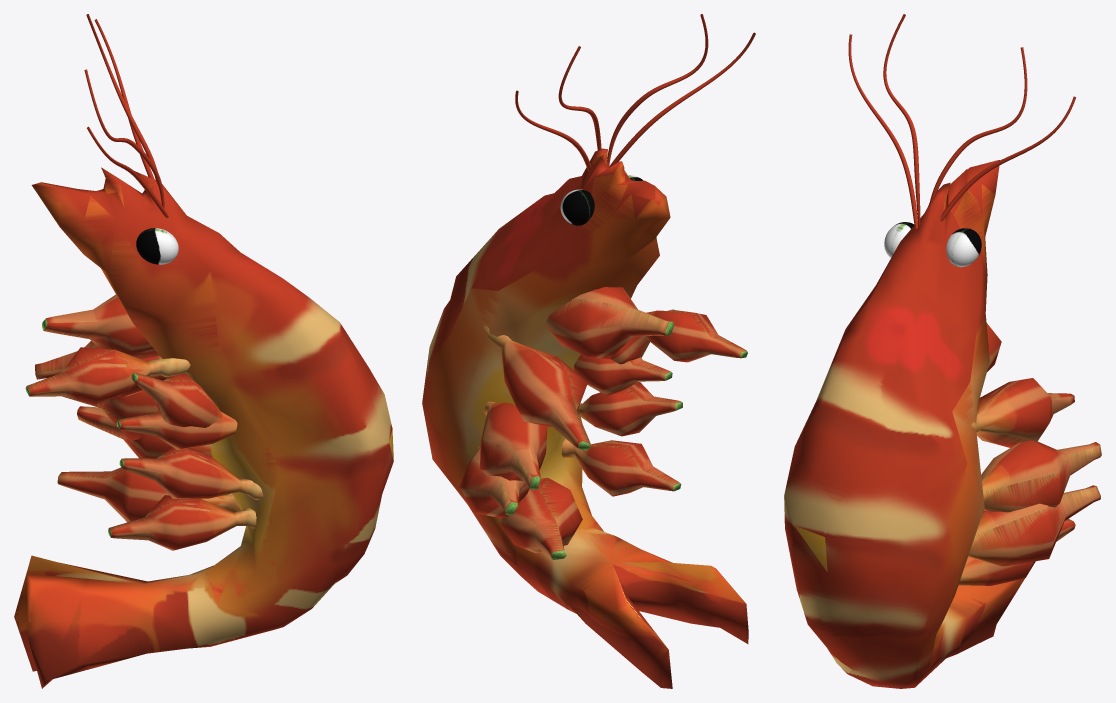
Rendered from shrimp.glb.
The picture shows the model from 3 angles, left to right: view 1: azimuth 30°, elevation 25°; view 2: azimuth 150°, elevation 25°; view 3: azimuth 270°, elevation 25°; orthographic projection. The views are drawn at different scales.
Parts seen in each view (by area): view 1: body, arm6, arm10, arm9, arm5, arm1, arm8, arm7, arm4, arm3, eye2, arm2 (+2 smaller); view 2: body, arm2, arm1, arm3, arm5, arm10, arm9, arm6, arm4, arm7, eye1, whisker2 (+4 smaller); view 3: body, arm3, arm4, arm2, arm5, eye1, whisker4, whisker2, whisker3, whisker1, eye2.
Part boxes in pixels (bbox=[...]): body: bbox=[14, 167, 393, 688]; arm6: bbox=[25, 347, 190, 404]; arm10: bbox=[108, 495, 256, 550]; arm9: bbox=[119, 447, 263, 499]; arm5: bbox=[57, 467, 241, 522]; arm1: bbox=[42, 294, 159, 359]; arm8: bbox=[131, 372, 222, 427]; arm7: bbox=[116, 409, 237, 449]; arm4: bbox=[77, 406, 212, 458]; arm3: bbox=[62, 390, 157, 440]; eye2: bbox=[136, 228, 178, 264]; arm2: bbox=[35, 341, 173, 396]; body: bbox=[422, 148, 748, 688]; arm2: bbox=[483, 325, 590, 450]; arm1: bbox=[545, 287, 673, 359]; arm3: bbox=[480, 401, 547, 490]; arm5: bbox=[501, 477, 582, 559]; arm10: bbox=[561, 439, 681, 496]; arm9: bbox=[577, 382, 682, 436]; arm6: bbox=[645, 310, 747, 362]; arm4: bbox=[459, 446, 529, 518]; arm7: bbox=[574, 354, 672, 395]; eye1: bbox=[560, 189, 594, 225]; whisker2: bbox=[610, 32, 755, 166]; body: bbox=[784, 160, 1024, 688]; arm3: bbox=[981, 440, 1101, 512]; arm4: bbox=[968, 485, 1100, 566]; arm2: bbox=[971, 378, 1074, 447]; arm5: bbox=[958, 519, 1075, 585]; eye1: bbox=[946, 228, 981, 267]; whisker4: bbox=[883, 14, 920, 226]; whisker2: bbox=[848, 34, 918, 229]; whisker3: bbox=[929, 47, 1027, 206]; whisker1: bbox=[940, 96, 1075, 221]; eye2: bbox=[884, 222, 914, 257].
Size of the model in its own units: 2.67 by 4.87 by 2.24.
7 materials, 3 textured.
